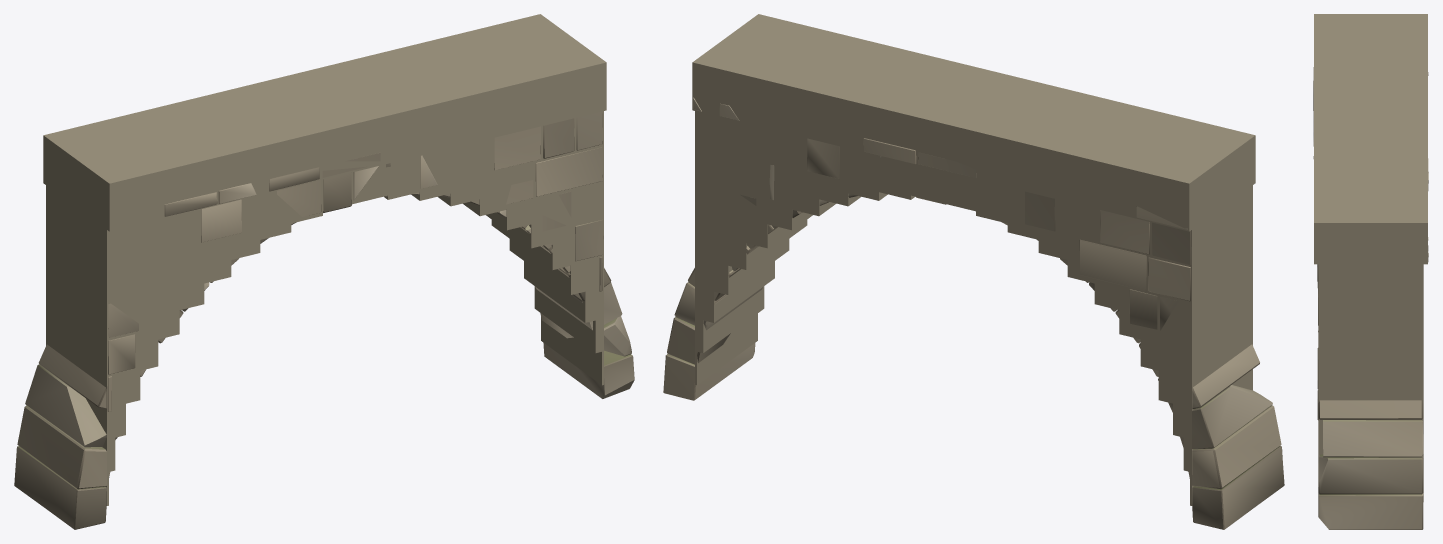
File: viaduct_top_arch_b.glb
3 renders of one model, left to right at view 1: azimuth 30°, elevation 25°; view 2: azimuth 150°, elevation 25°; view 3: azimuth 270°, elevation 25°, orthographic. The views are drawn at different scales.
Parts seen in each view (by area): view 1: viaduct_top_arch_b_far, viaduct_top_arch_b; view 2: viaduct_top_arch_b_far, viaduct_top_arch_b; view 3: viaduct_top_arch_b_far, viaduct_top_arch_b.
Part boxes in pixels (x1,y1,x2,y2): viaduct_top_arch_b_far: [43, 14, 606, 505]; viaduct_top_arch_b: [14, 111, 634, 529]; viaduct_top_arch_b_far: [692, 14, 1255, 505]; viaduct_top_arch_b: [663, 97, 1284, 529]; viaduct_top_arch_b_far: [1314, 14, 1427, 501]; viaduct_top_arch_b: [1313, 67, 1428, 529].
Bounding box in the file's own units: 31.86 × 18.49 × 6.58.
